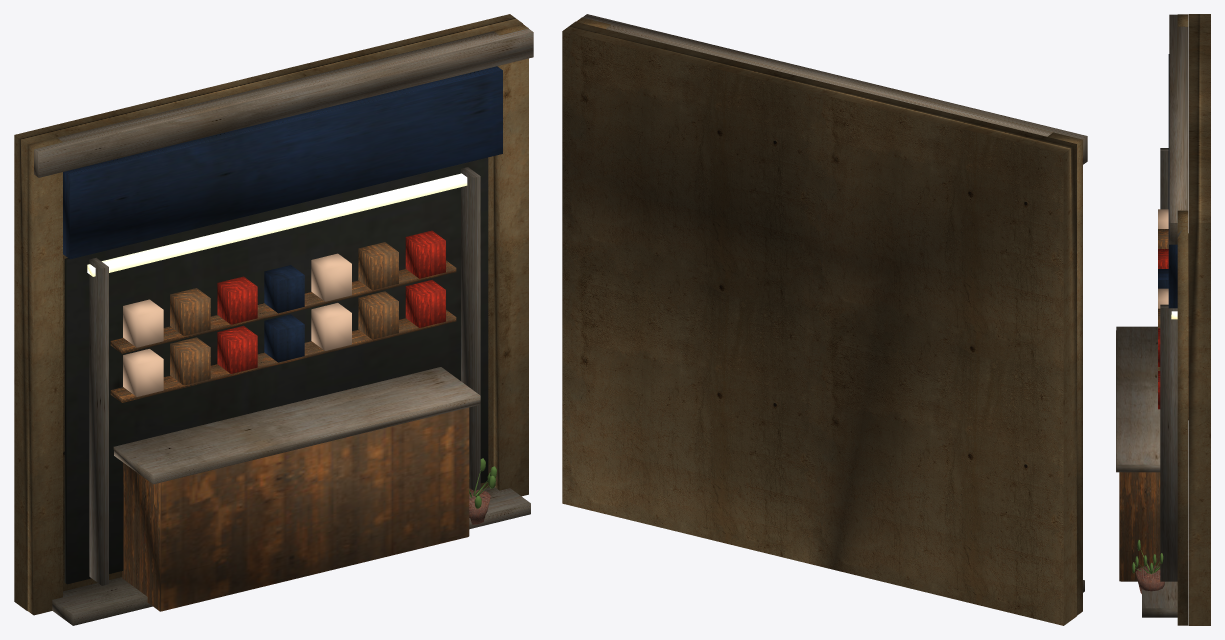
Rendered from mat_tien_tret_01_lod1.glb.
The picture shows the model from 3 angles, left to right: view 1: azimuth 30°, elevation 25°; view 2: azimuth 150°, elevation 25°; view 3: azimuth 270°, elevation 25°; orthographic projection. The views are drawn at different scales.
Parts seen in each view (by area): view 1: mat_tien_tret_01.001; view 2: mat_tien_tret_01.001; view 3: mat_tien_tret_01.001.
Part boxes in pixels (left/top/right/bottom): mat_tien_tret_01.001: left=14, top=14, right=533, bottom=625; mat_tien_tret_01.001: left=562, top=14, right=1087, bottom=625; mat_tien_tret_01.001: left=1116, top=14, right=1210, bottom=625.
Bounding box in the file's own units: 4 × 3.6 × 0.7674.
Materials: 3 (2 with a texture image).
